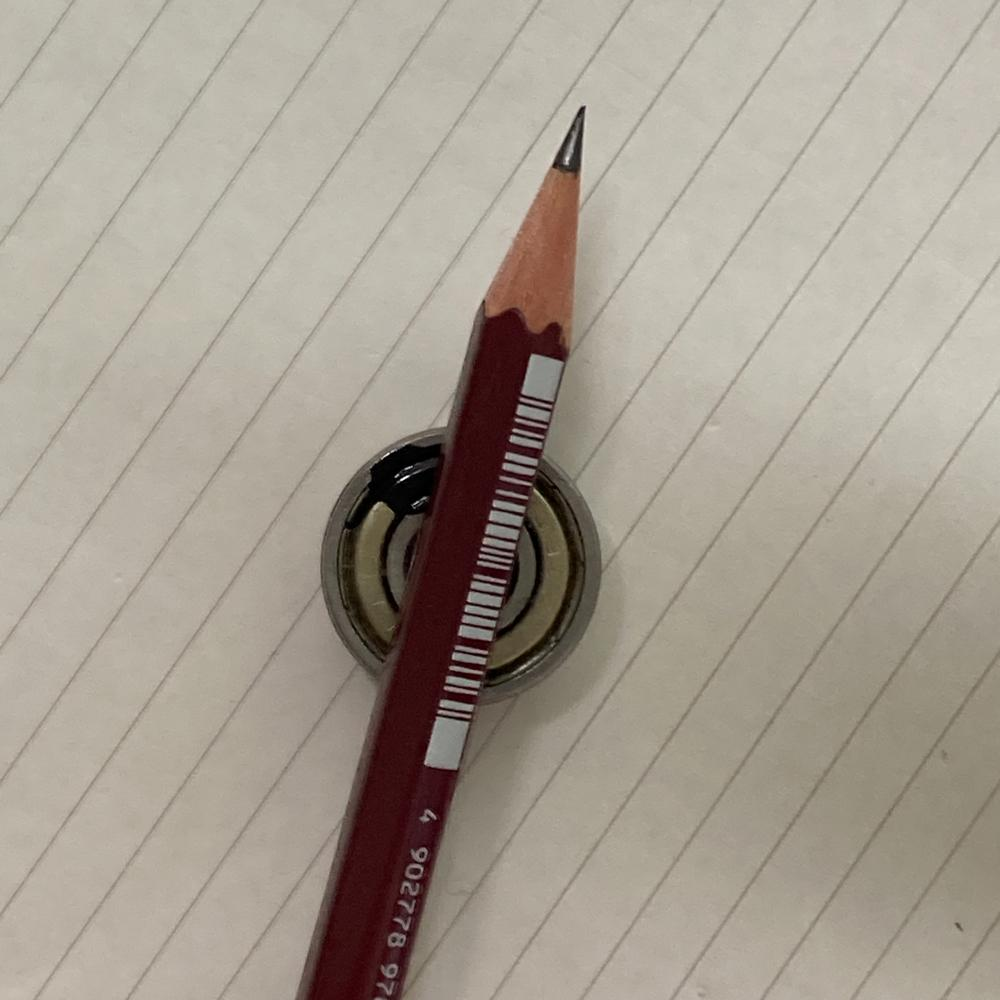ball_bearing_oil_stain: (320, 422, 604, 709)
